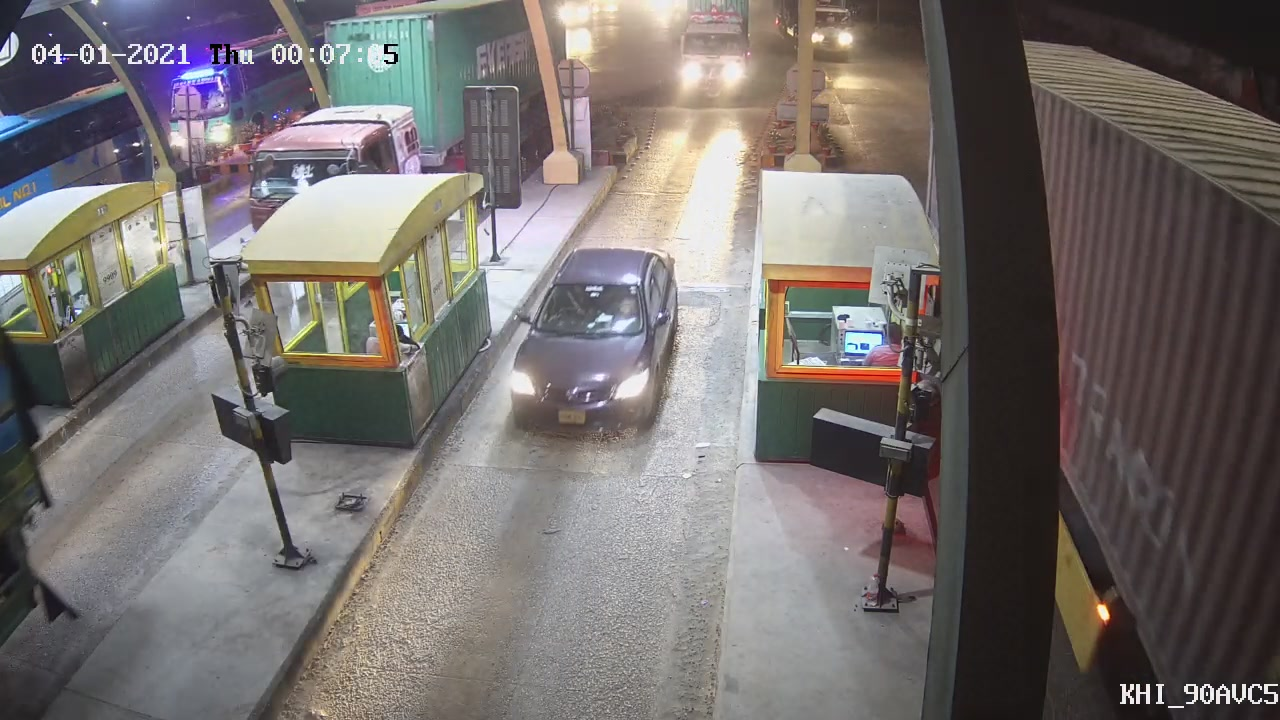F1: (501, 229, 686, 464)
